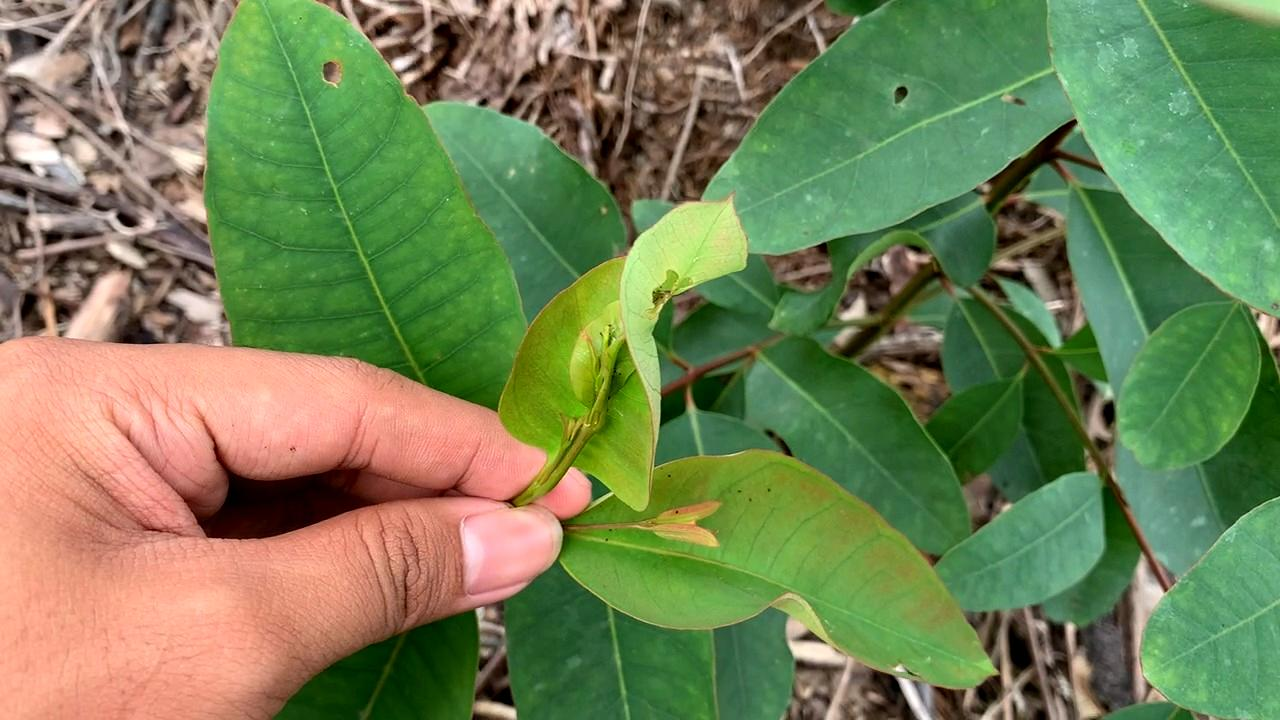Leaf Roller - Leaf: (501, 199, 729, 500)
